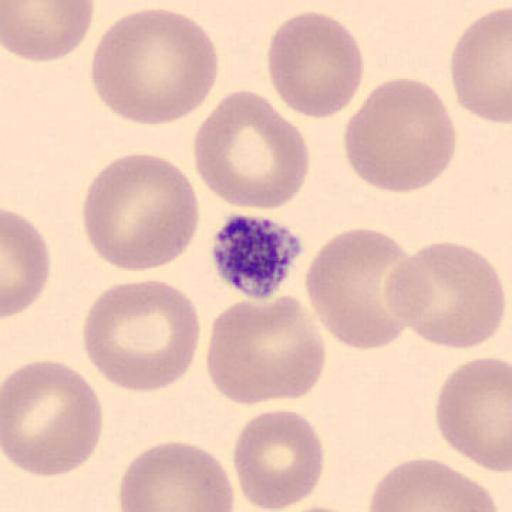Platelet: (207, 210, 305, 301)
RBC: (91, 7, 220, 127), (192, 88, 311, 212), (81, 152, 201, 273), (205, 294, 328, 407), (82, 278, 202, 393), (343, 75, 458, 194), (304, 226, 414, 350), (386, 240, 506, 350), (1, 360, 104, 478), (266, 9, 364, 121), (232, 407, 326, 512), (435, 357, 512, 472), (118, 438, 236, 512), (449, 6, 512, 126), (366, 457, 499, 512), (2, 0, 94, 63), (2, 209, 52, 319), (271, 502, 362, 512)
